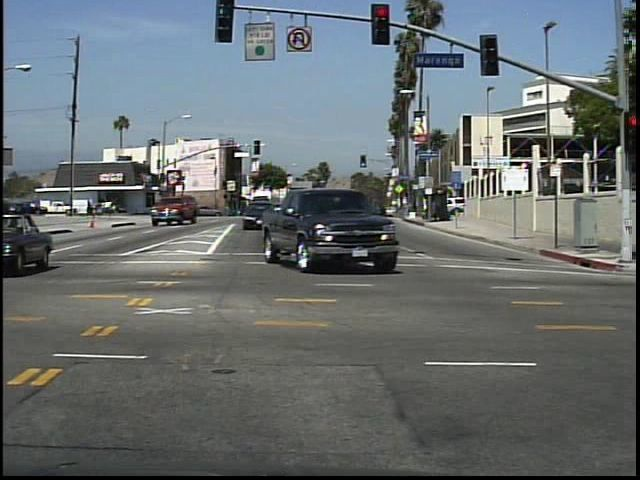person: (85, 199, 96, 223)
